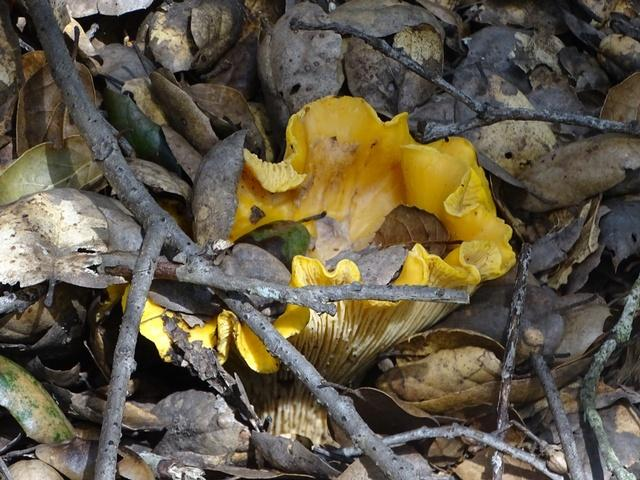Edible Mushroom: (154, 92, 515, 431)
